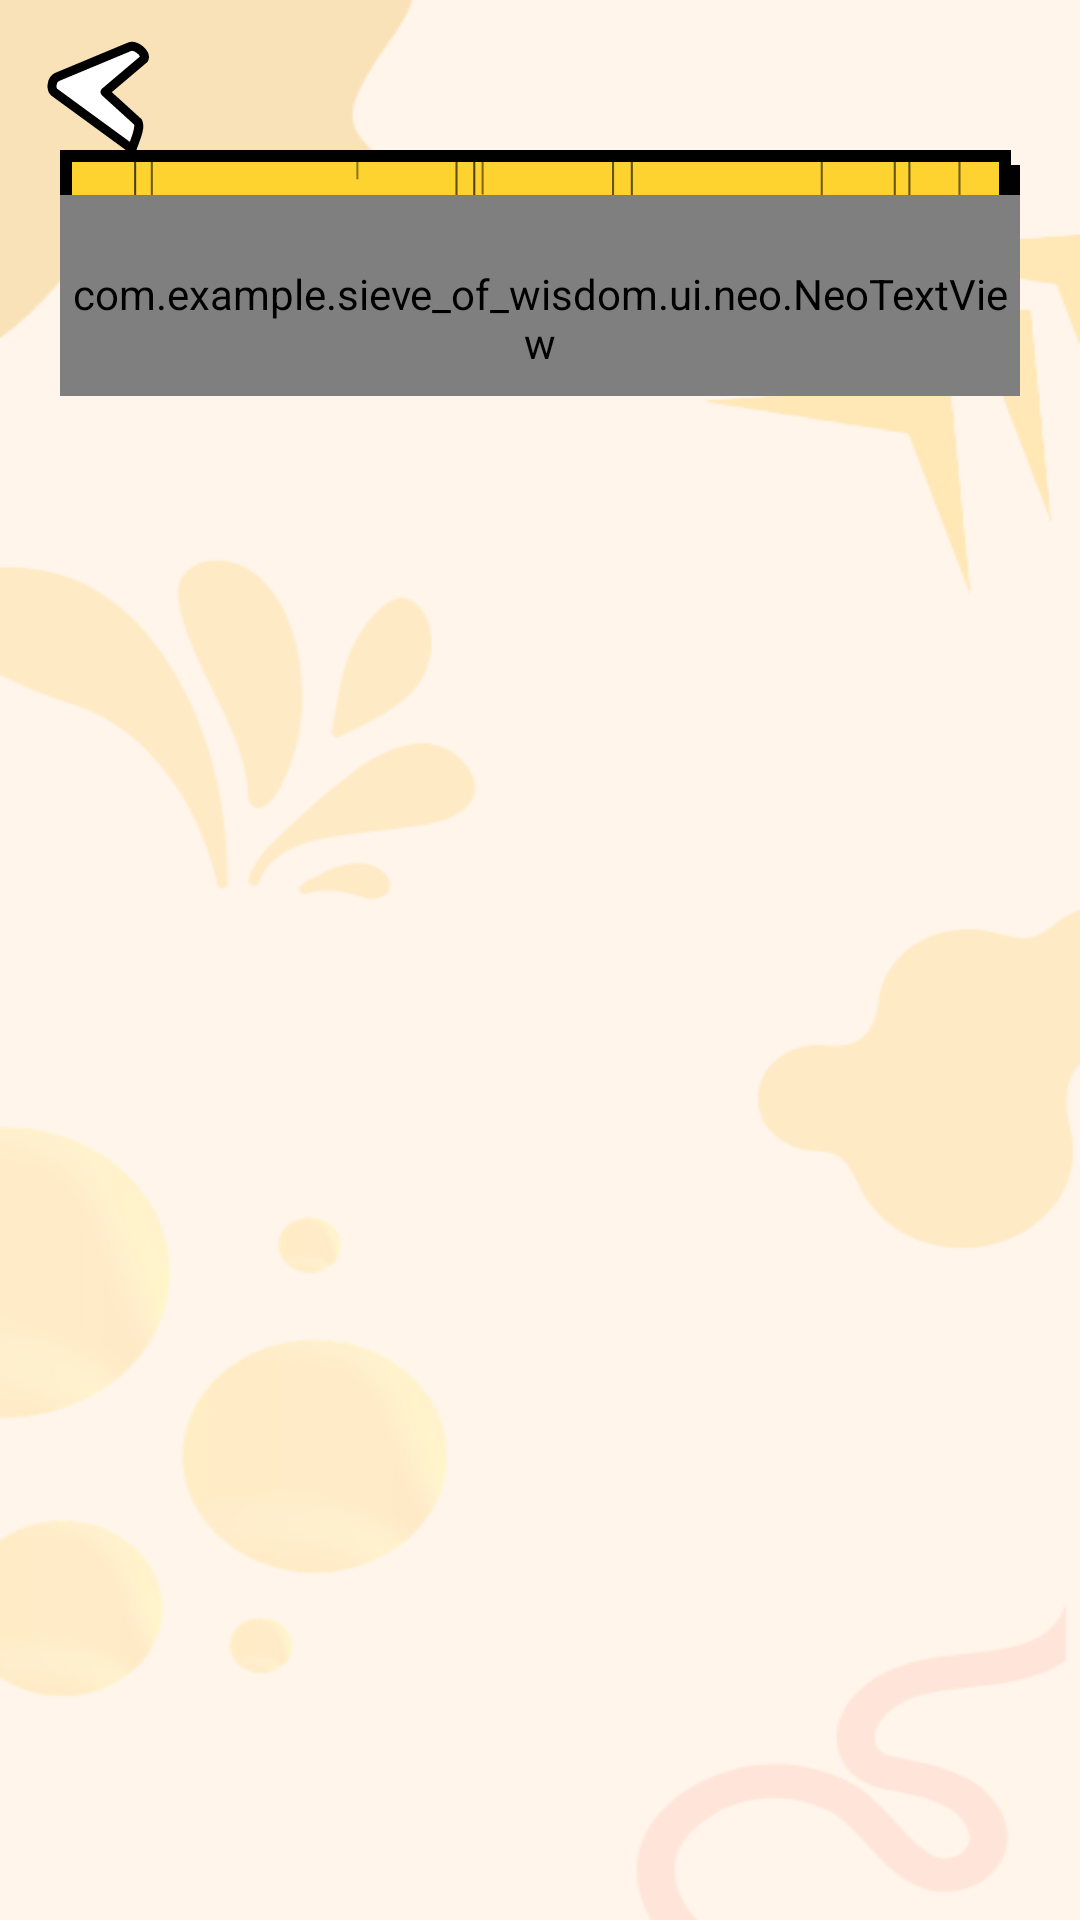

Screen size 1080*1920. Icon name, then its box in pixels as {"x1": x1, "y1": y1, "x2": x2, "y2": y2}:
back arrow: {"x1": 47, "y1": 41, "x2": 165, "y2": 171}
